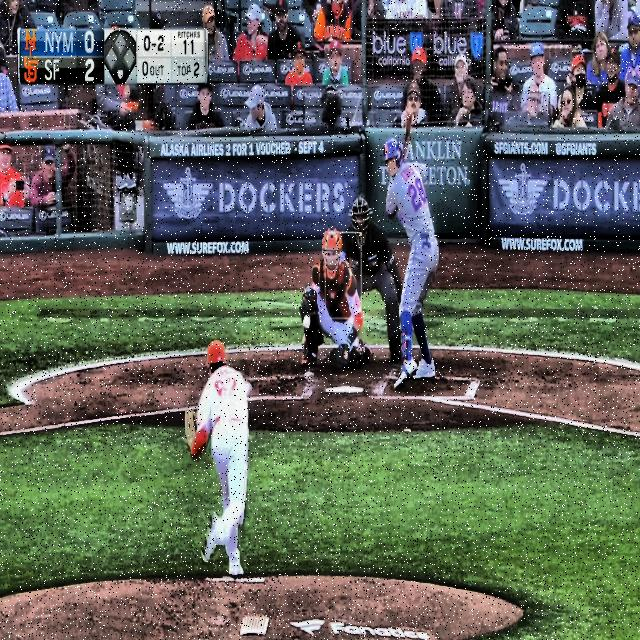baseball: (302, 312, 312, 331)
